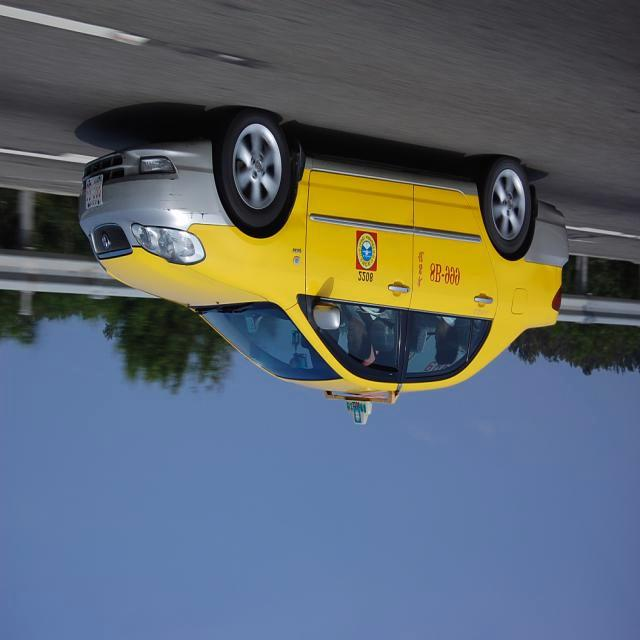taxi: (77, 107, 578, 435)
